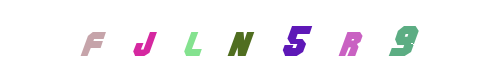5: (222, 0, 302, 80)
9: (360, 0, 440, 80)
F: (100, 0, 180, 80)
J: (169, 0, 249, 80)
L: (200, 0, 280, 80)
N: (205, 0, 285, 80)
R: (256, 0, 336, 80)
